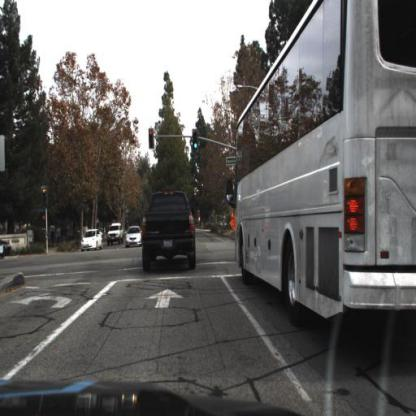car: (139, 188, 199, 276), (81, 228, 104, 254), (107, 223, 125, 249), (125, 224, 143, 250)
pedestrian: (52, 228, 57, 248), (59, 228, 63, 246)
trafficLight: (149, 127, 156, 151)
trafficLight-Green: (192, 129, 200, 154)
trafficLight-RedLeft: (41, 184, 49, 210)
truck: (226, 1, 416, 328)
